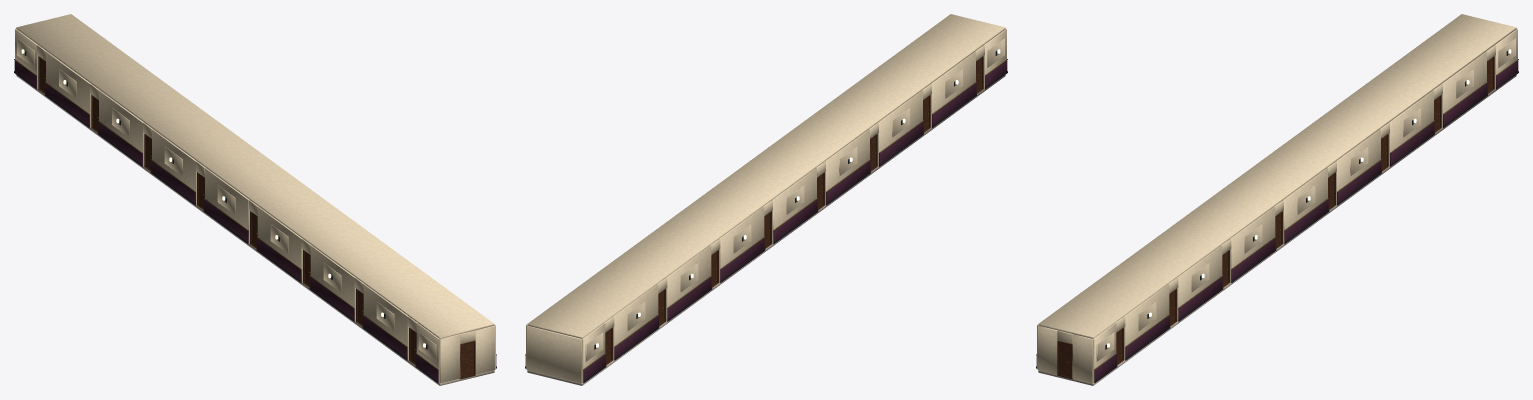
File: explore3d__hotel_corridor.glb
The picture shows the model from 3 angles, left to right: view 1: azimuth 30°, elevation 25°; view 2: azimuth 150°, elevation 25°; view 3: azimuth 330°, elevation 25°; orthographic projection.
Parts seen in each view (by area): view 1: Rebuilt_hotel_corridor; view 2: Rebuilt_hotel_corridor; view 3: Rebuilt_hotel_corridor.
Part boxes in pixels (x1=…): Rebuilt_hotel_corridor: x1=14, y1=14, x2=496, y2=385; Rebuilt_hotel_corridor: x1=525, y1=14, x2=1007, y2=385; Rebuilt_hotel_corridor: x1=1036, y1=14, x2=1518, y2=385.
Bounding box in the file's own units: 4.99 × 3.56 × 56.2.
16 materials, 14 textured.
